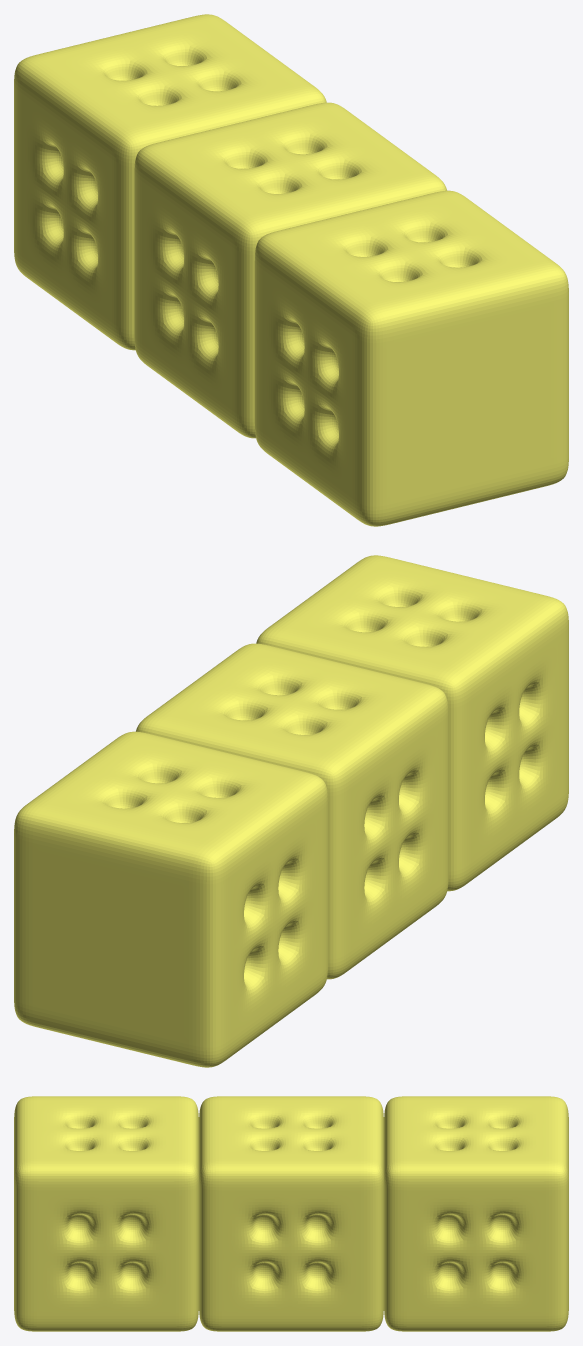
The model's file is yellow_1.3.1.fbx.
The picture shows the model from 3 angles, top to bottom: view 1: azimuth 30°, elevation 25°; view 2: azimuth 150°, elevation 25°; view 3: azimuth 270°, elevation 25°; orthographic projection. The views are drawn at different scales.
Parts seen in each view (by area): view 1: Cube.002; view 2: Cube.002; view 3: Cube.002.
Part boxes in pixels (x1,y1,x2,y2): Cube.002: (14, 14, 568, 526); Cube.002: (14, 555, 568, 1067); Cube.002: (14, 1096, 568, 1331).
Bounding box in the file's own units: 100 × 100 × 300.
